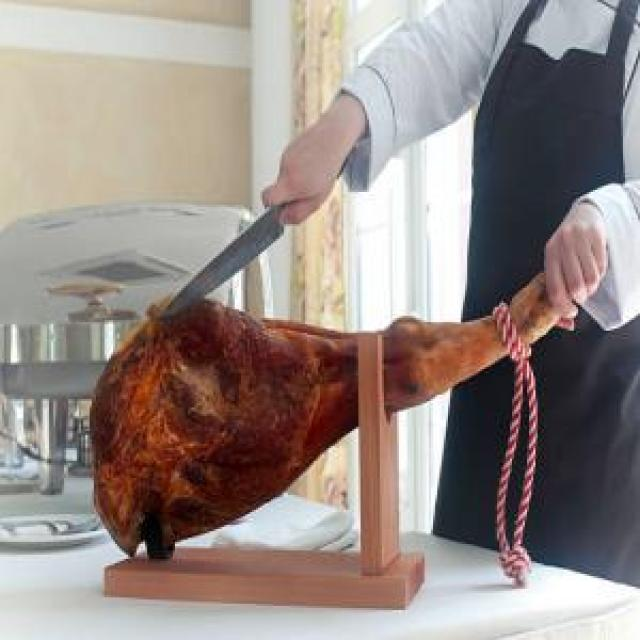knife: (156, 143, 349, 326)
